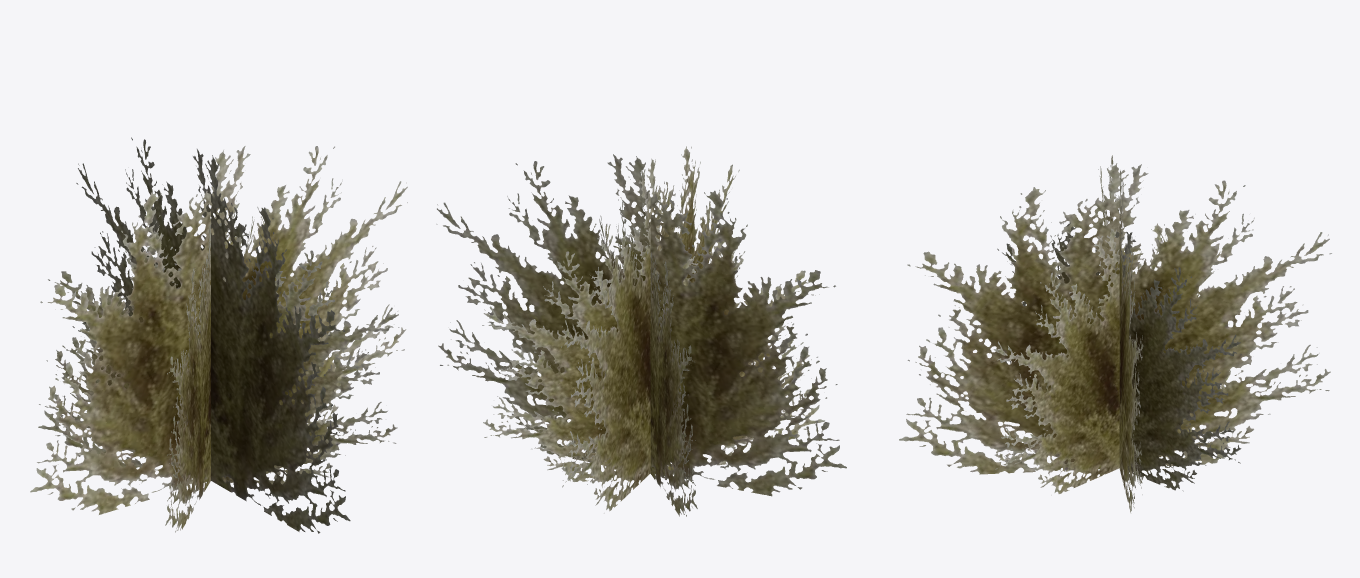
The model's file is bush-simples.glb.
The picture shows the model from 3 angles, left to right: view 1: azimuth 30°, elevation 25°; view 2: azimuth 150°, elevation 25°; view 3: azimuth 270°, elevation 25°; orthographic projection. The views are drawn at different scales.
Parts seen in each view (by area): view 1: Object_2; view 2: Object_2; view 3: Object_2.
Boxes of the visible parts, <box> form: Object_2: <box>30,137,407,533</box>; Object_2: <box>436,146,846,516</box>; Object_2: <box>899,155,1331,512</box>.
Bounding box in the file's own units: 1 × 0.8775 × 1.
Materials: 1 (1 with a texture image).
